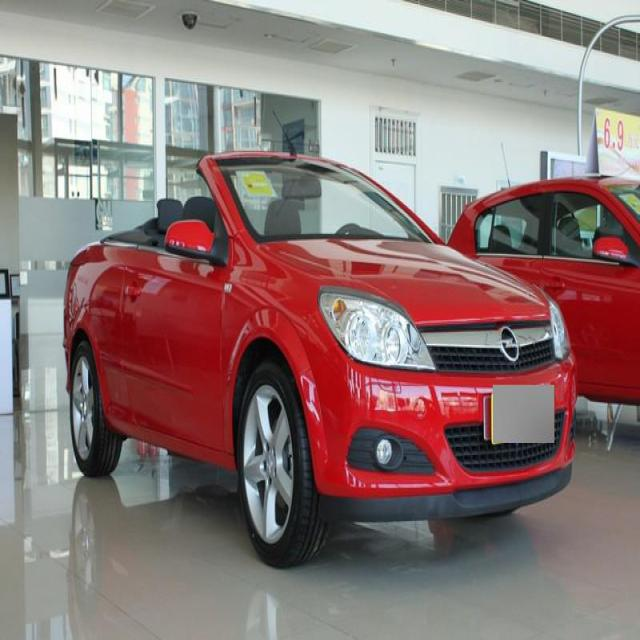front_bumper: (308, 350, 574, 520)
front_glass: (213, 156, 434, 246)
front_left_side_light: (547, 296, 572, 362)
front_right_side_door: (120, 242, 225, 455)
front_right_side_light: (315, 287, 438, 372)
front_right_side_mirror: (164, 218, 230, 267)
wheel: (237, 365, 323, 570), (70, 337, 116, 479)
